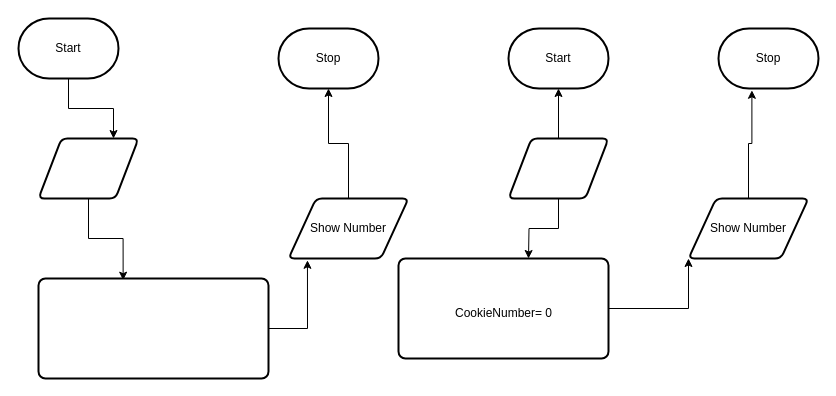
Some shapes in this 836 by 396 pixel diagram are drawn without their labels. The centre of each missing label's shape, as x and y in pixels:
CLICK ''A'': the point at 88,168
Click ''B'': the point at 558,168
CookieNumber=CookieNumber +1: the point at 153,328
